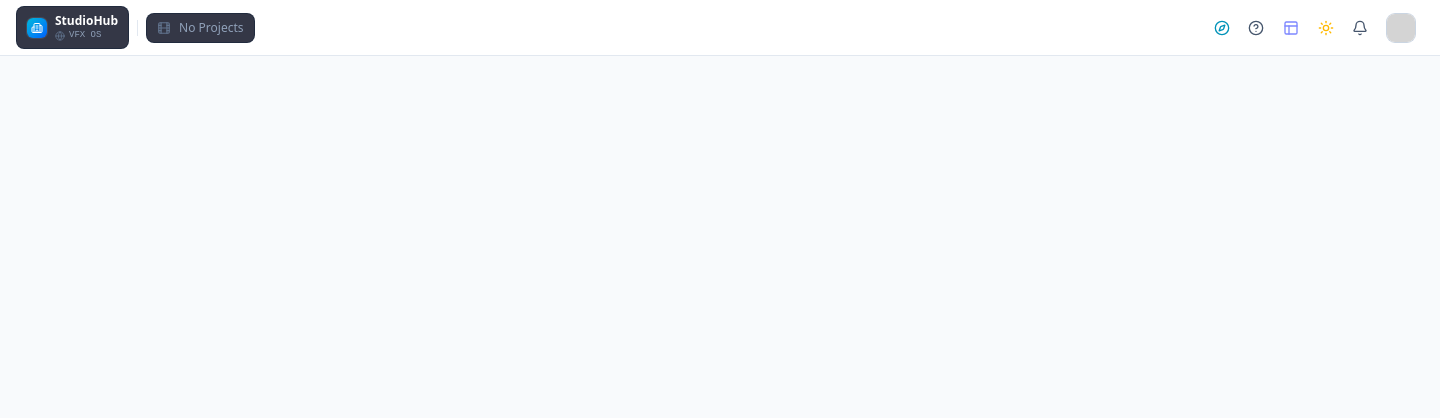
Test: Header admin option gating › shows settings entries with an explicit settings grant
The image size is (1440, 418).
Click the button named "User account menu" at (1402, 28), box 1380,8 -> 1424,46
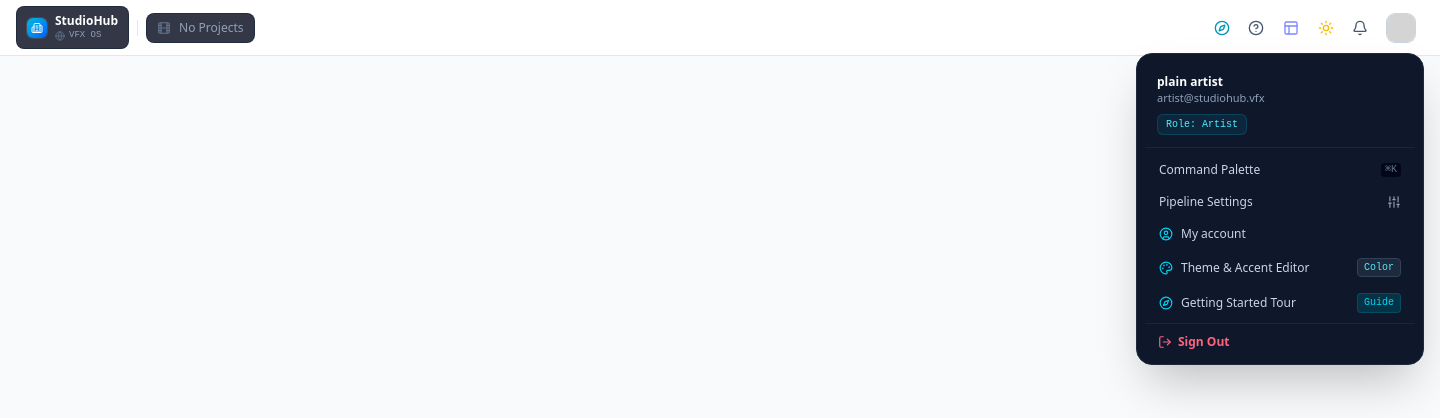
Result: the text "Pipeline Settings" is shown at 1159,194 -> 1253,210
Result: the text "Theme & Accent Editor" is shown at 1181,260 -> 1309,276
